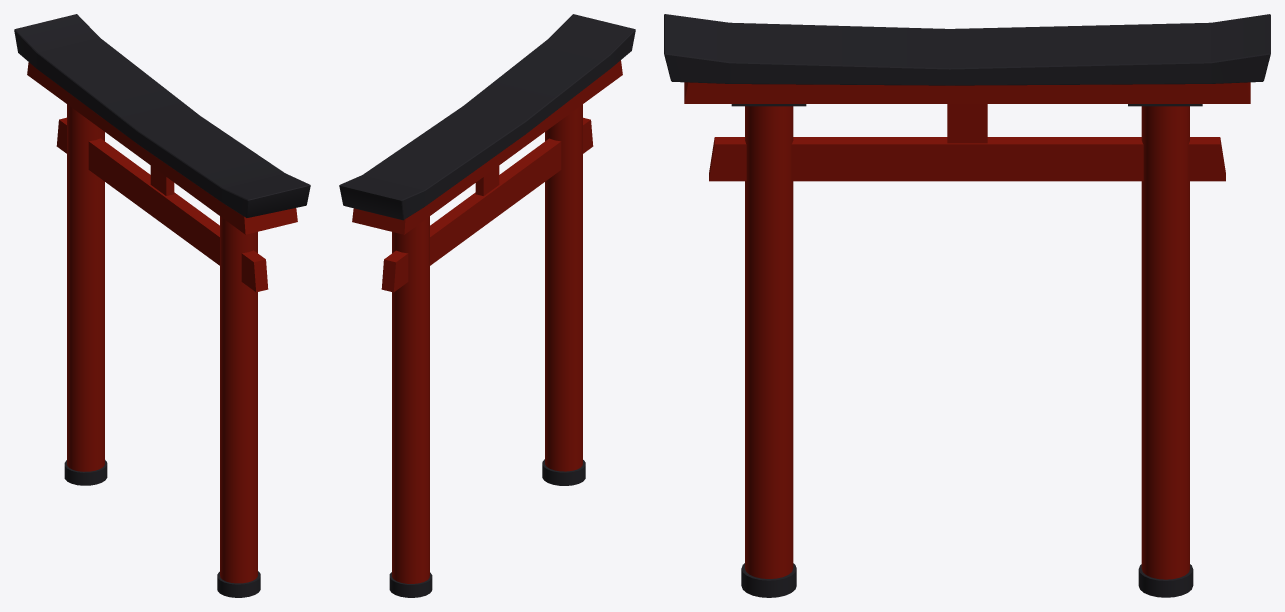
File: arch2.fbx
The picture shows the model from 3 angles, left to right: view 1: azimuth 30°, elevation 25°; view 2: azimuth 150°, elevation 25°; view 3: azimuth 270°, elevation 25°; orthographic projection. The views are drawn at different scales.
Parts seen in each view (by area): view 1: arch2; view 2: arch2; view 3: arch2.
Part boxes in pixels (x1,y1,x2,y2): arch2: (14,14,310,597); arch2: (339,14,635,597); arch2: (664,14,1270,597).
Size of the model in its own units: 185 by 1186 by 1181.
